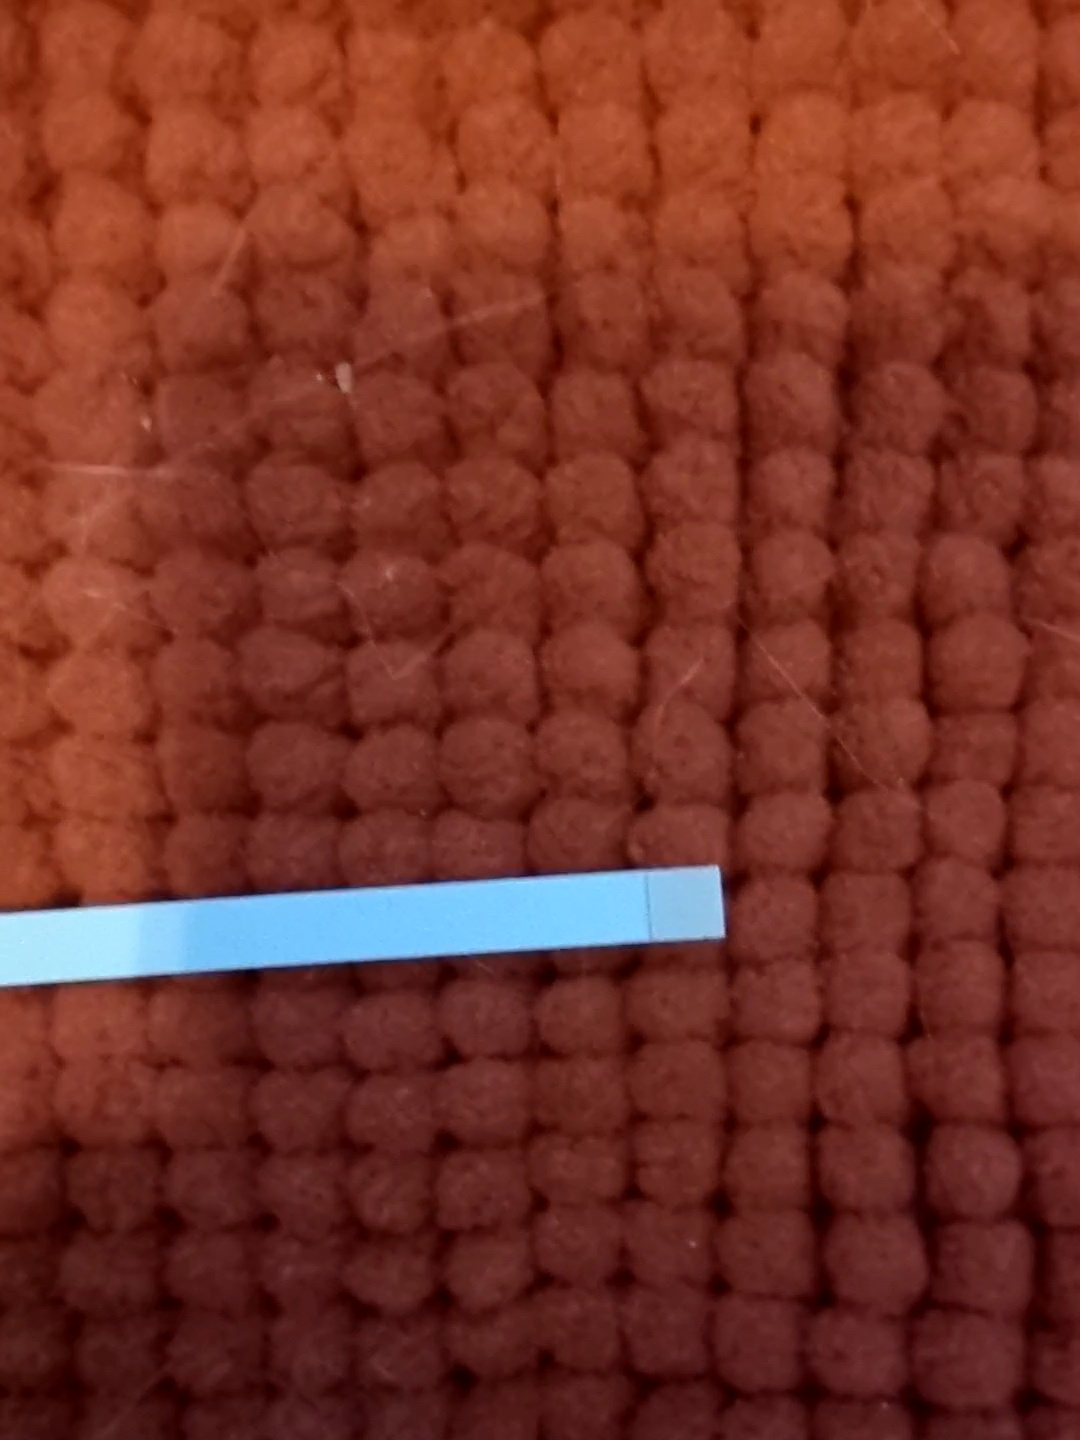keto-tip: (639, 861, 729, 947)
